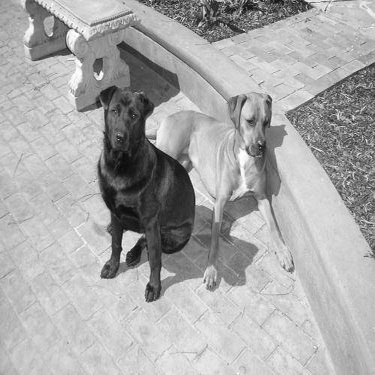dog: (157, 83, 297, 289), (87, 74, 199, 308)
